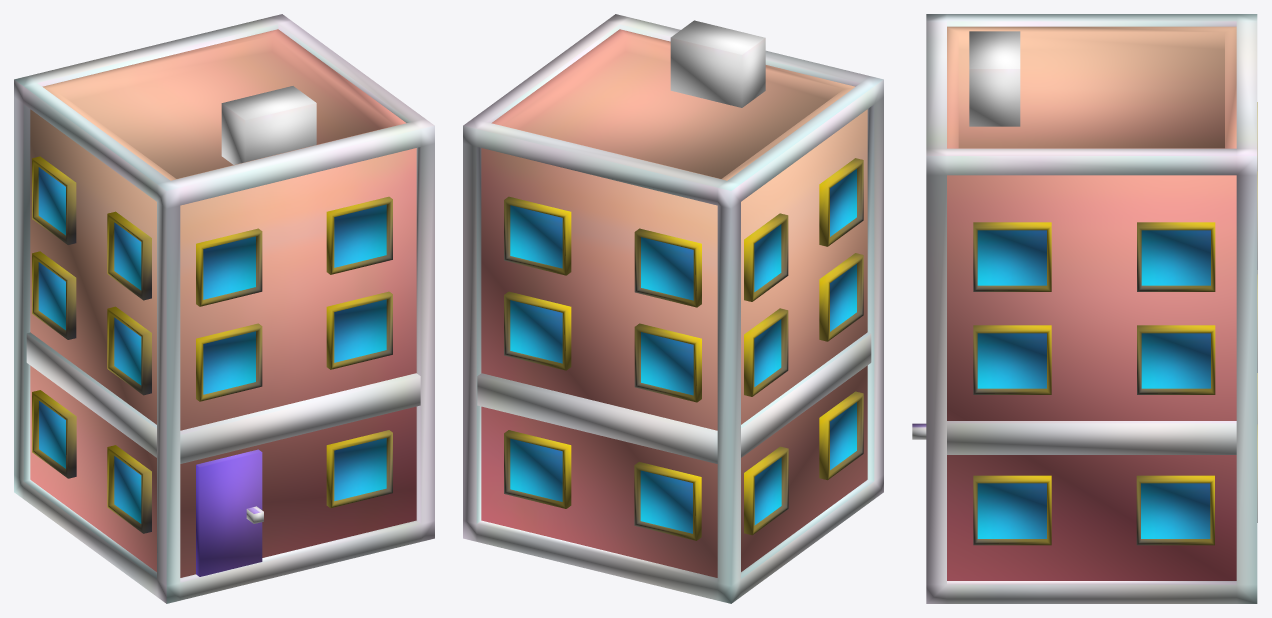
File: House6.fbx
3 views of the same model, side by side, from view 1: azimuth 30°, elevation 25°; view 2: azimuth 150°, elevation 25°; view 3: azimuth 270°, elevation 25° (orthographic). The views are drawn at different scales.
Parts seen in each view (by area): view 1: House.6; view 2: House.6; view 3: House.6.
Part boxes in pixels (x1,y1,x2,y2): House.6: [14, 14, 434, 603]; House.6: [463, 14, 883, 603]; House.6: [912, 14, 1257, 603].
Bounding box in the file's own units: 792 × 1244 × 806.
1 material, 1 textured.
